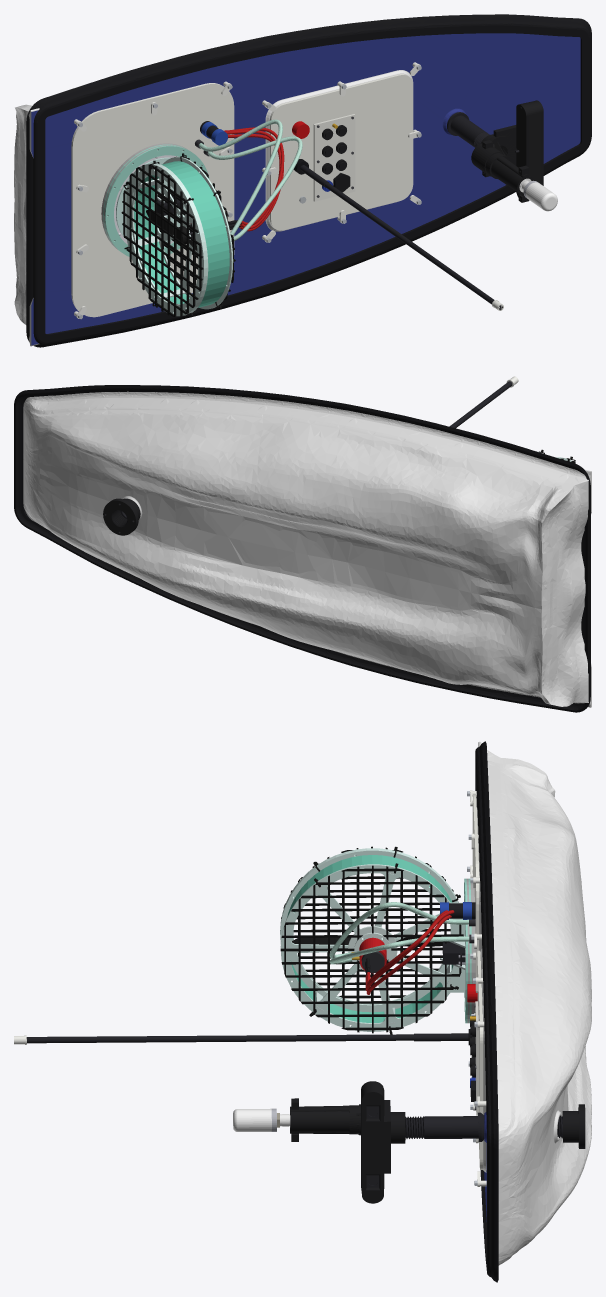
Rendered from tilapia.obj.
3 views of the same model, one above another, from view 1: azimuth 30°, elevation 25°; view 2: azimuth 150°, elevation 25°; view 3: azimuth 270°, elevation 25° (orthographic). The views are drawn at different scales.
Visible parts, largest first — view 1: colour_14, colour_40, colour_02, colour_00, colour_05, colour_16, colour_39, colour_34, colour_37, colour_08, colour_26, colour_19 (+5 smaller); view 2: colour_39, colour_02, colour_05, colour_08; view 3: colour_39, colour_00, colour_34, colour_02, colour_05, colour_08, colour_16, colour_26, colour_40, colour_22, colour_43, colour_41 (+1 smaller).
Part boxes in pixels (left/top/right/bottom): colour_14: left=31, top=33, right=580, bottom=345; colour_40: left=71, top=74, right=413, bottom=317; colour_02: left=26, top=14, right=591, bottom=347; colour_00: left=121, top=156, right=235, bottom=316; colour_05: left=228, top=100, right=543, bottom=229; colour_16: left=134, top=161, right=229, bottom=307; colour_39: left=14, top=70, right=413, bottom=346; colour_34: left=126, top=157, right=233, bottom=316; colour_37: left=313, top=114, right=355, bottom=201; colour_08: left=300, top=112, right=502, bottom=310; colour_26: left=199, top=119, right=302, bottom=240; colour_19: left=103, top=144, right=209, bottom=256; colour_39: left=23, top=391, right=591, bottom=707; colour_02: left=14, top=385, right=590, bottom=712; colour_05: left=103, top=498, right=140, bottom=535; colour_08: left=120, top=381, right=512, bottom=518; colour_39: left=477, top=741, right=591, bottom=1265; colour_00: left=280, top=846, right=463, bottom=1033; colour_34: left=280, top=848, right=464, bottom=1031; colour_02: left=468, top=741, right=498, bottom=1282; colour_05: left=290, top=958, right=585, bottom=1203; colour_08: left=26, top=1033, right=562, bottom=1141; colour_16: left=287, top=855, right=453, bottom=1022; colour_26: left=329, top=902, right=469, bottom=964; colour_40: left=472, top=795, right=483, bottom=1169; colour_22: left=365, top=910, right=454, bottom=994; colour_43: left=233, top=1108, right=271, bottom=1131; colour_41: left=14, top=790, right=486, bottom=1186.
Size of the model in its own units: 1.22 by 0.5414 by 0.91.
